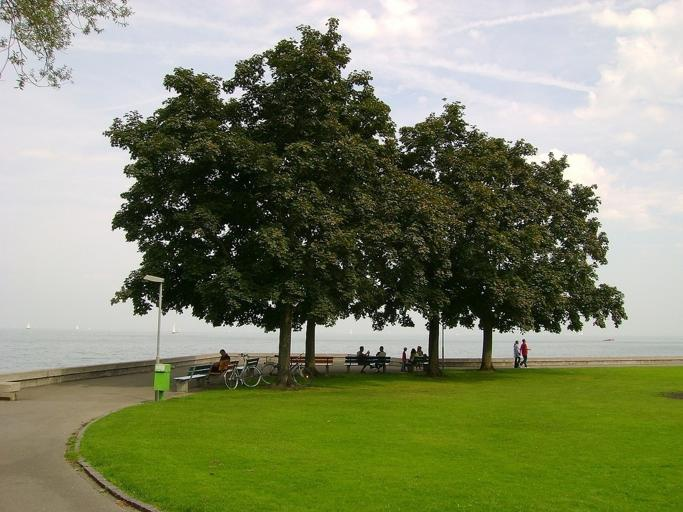non-vehicle: (259, 352, 312, 385), (222, 352, 261, 390)
